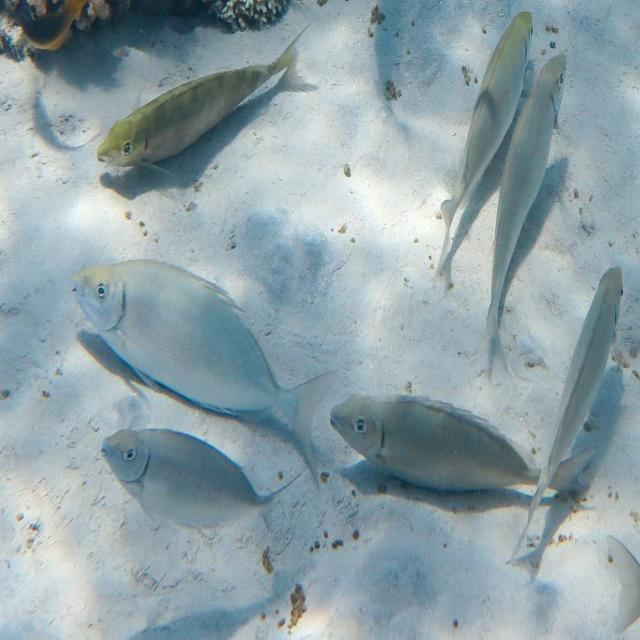Sokar Baligi: (94, 10, 320, 192), (514, 258, 639, 560), (95, 414, 304, 572)
